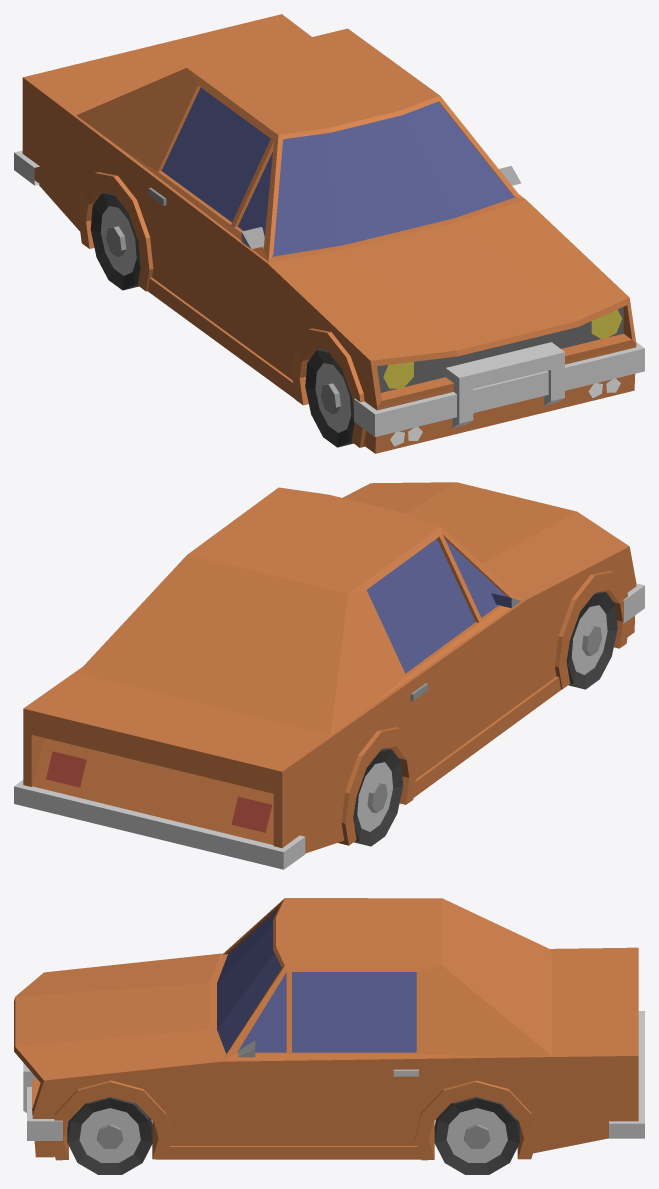
File: transport_sport_009.glb
The picture shows the model from 3 angles, top to bottom: view 1: azimuth 30°, elevation 25°; view 2: azimuth 150°, elevation 25°; view 3: azimuth 270°, elevation 25°; orthographic projection. The views are drawn at different scales.
Visible parts, largest first — view 1: transport_sport_009; view 2: transport_sport_009; view 3: transport_sport_009.
Boxes of the visible parts, <box> form: transport_sport_009: <box>14,14,644,453</box>; transport_sport_009: <box>14,482,644,869</box>; transport_sport_009: <box>14,898,644,1174</box>.
Bounding box in the file's own units: 1.63 × 1.27 × 3.85.
1 material, 1 textured.
